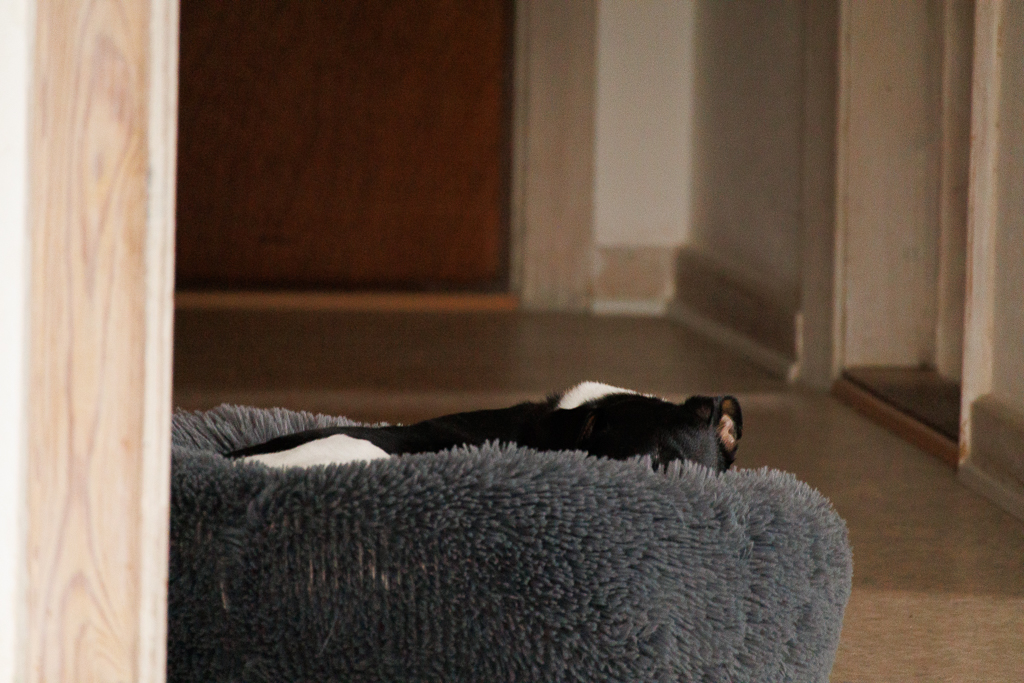Dog: (197, 371, 750, 488)
